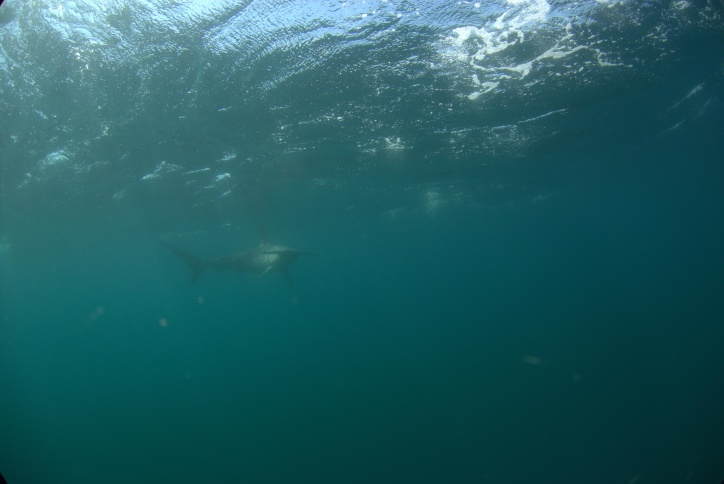Hammer: (147, 205, 336, 306)
